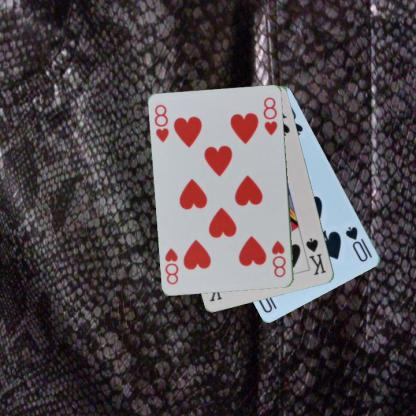10s: (342, 223, 374, 264)
8h: (269, 238, 288, 279), (152, 102, 170, 144)
Ks: (303, 235, 328, 277)
